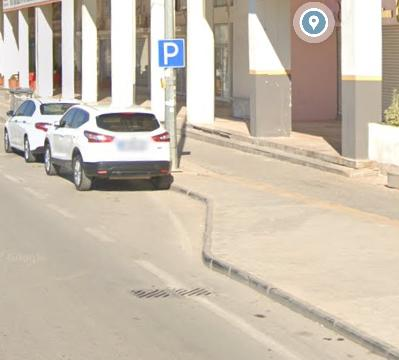park: (160, 40, 184, 66)
